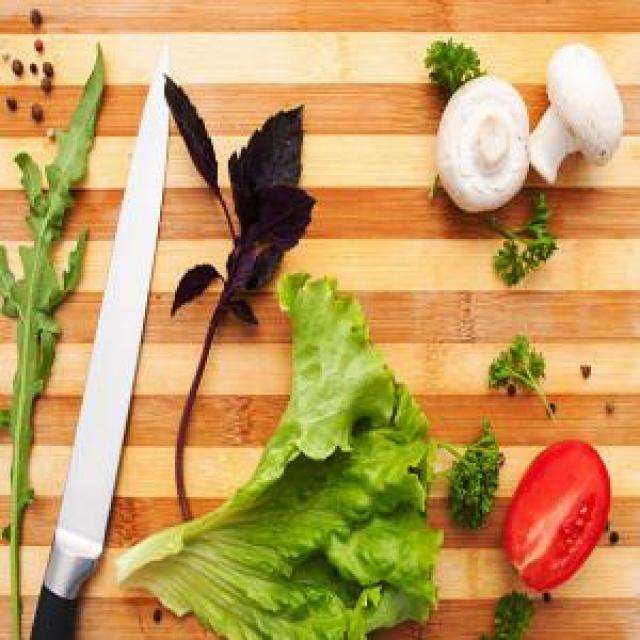knife: (19, 28, 175, 638)
